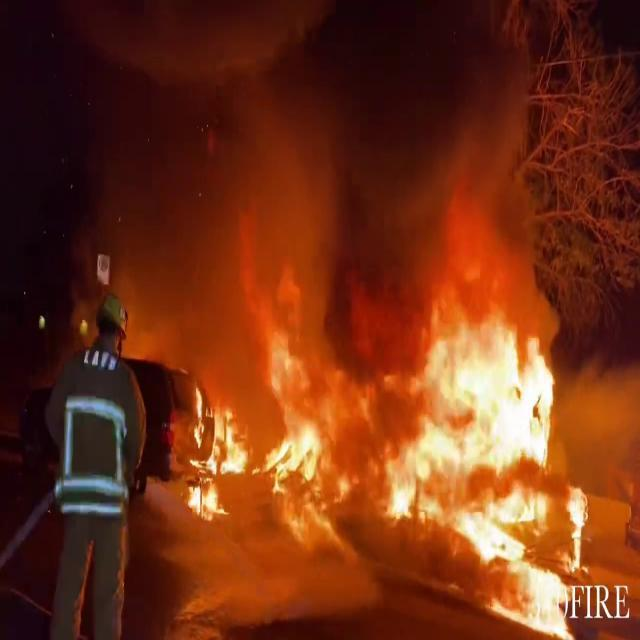Fire: (413, 276, 620, 640), (184, 336, 418, 544)
Smoke: (32, 6, 598, 308)
